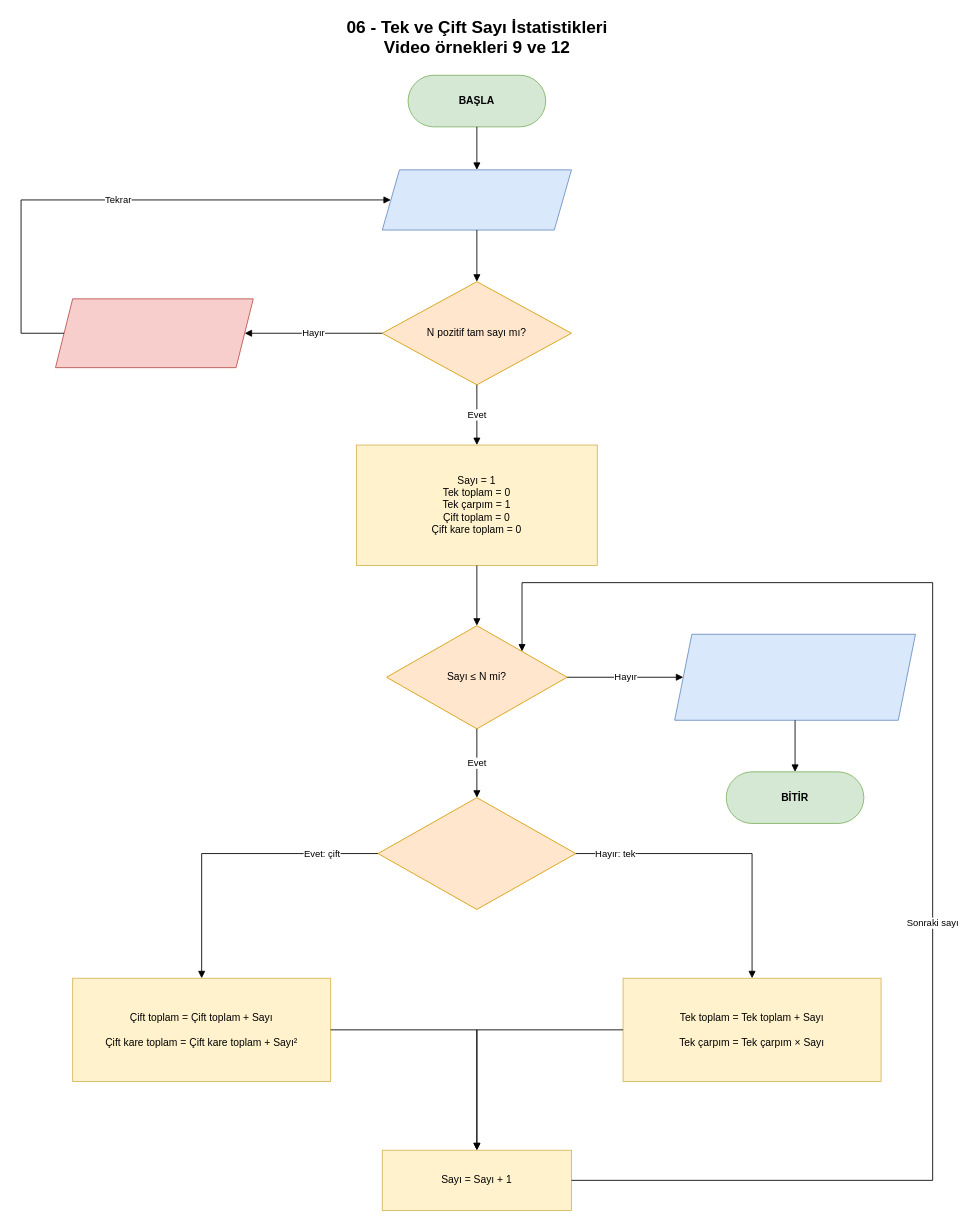
Image size: 974x1226. Some labels were removed from this diagram. Each missing label, with the centre of its shape:
"Hatalı giriş! Pozitif tam sayı gir." belongs at pixel 154 333.
"Sayı mod 2 = 0 mı?" belongs at pixel 476 853.
"Tek toplamı ve çarpımı; çift toplamı ve çift kareler toplamını ekrana yaz" belongs at pixel 794 676.
"Üst sınırı gir: N" belongs at pixel 476 199.
